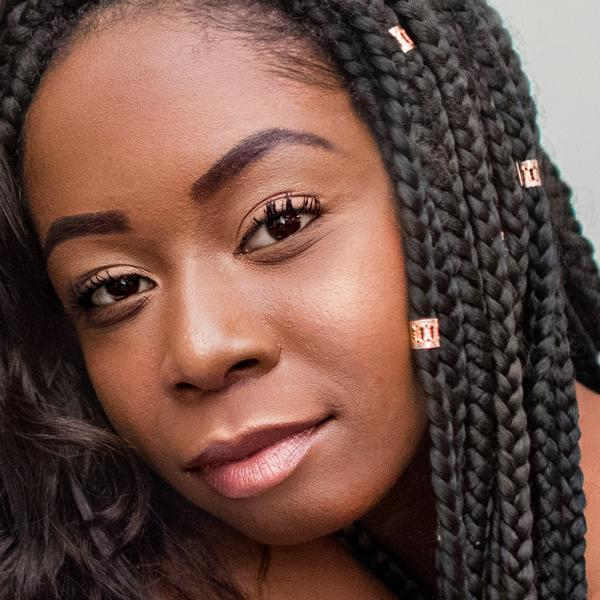Eyes: (226, 176, 337, 274), (63, 249, 171, 331)
